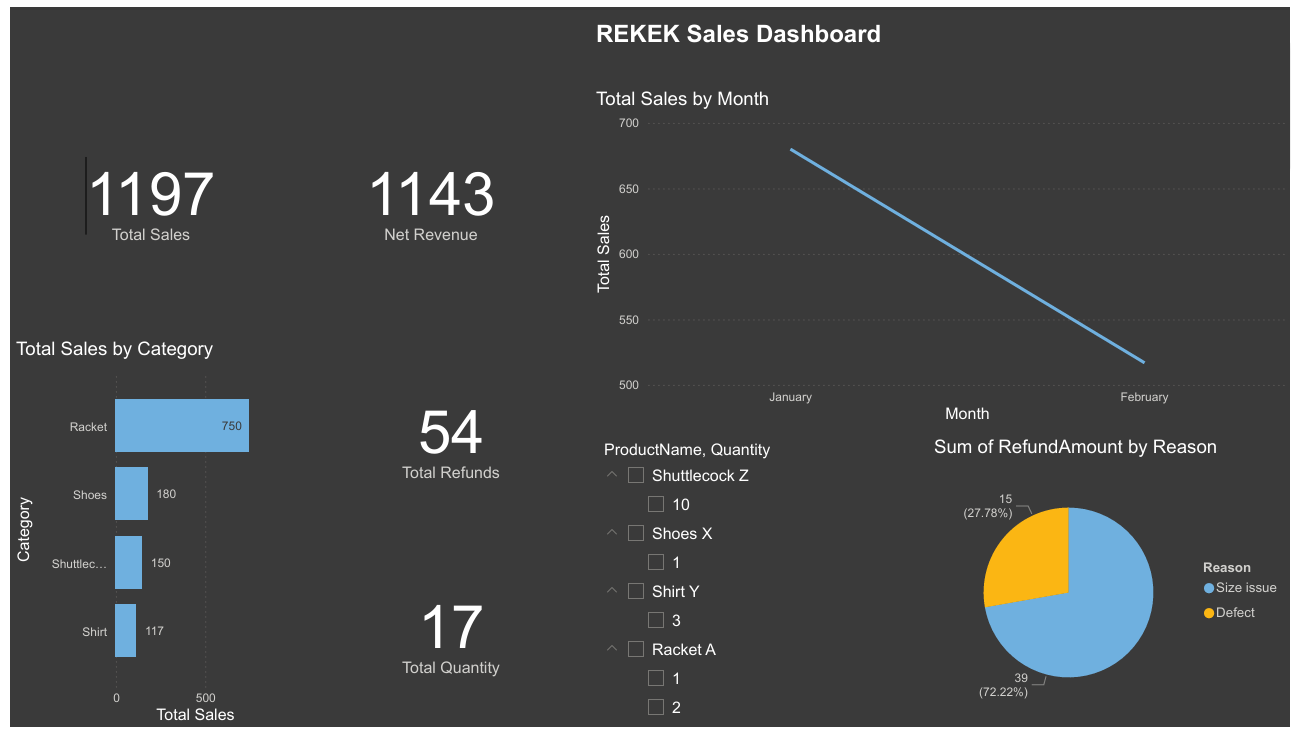

This screenshot's page, from the dashboard's own definition file:
{"tool":"powerbi","page":{"name":"Page 1","canvas":[1280,720],"ordinal":0},"visuals":[{"type":"card","fields":{"Values":["Orders.Total Sales"]},"box":[0,49.6,280.1,280.1],"z":0},{"type":"card","fields":{"Values":["Orders.Net Revenue"]},"box":[280.1,49.6,280.1,280.1],"z":1000},{"type":"card","fields":{"Values":["Orders.Total Quantity"]},"box":[299.6,525.2,280.1,194.5],"z":2000},{"type":"card","fields":{"Values":["Orders.Total Refunds"]},"box":[299.6,329.7,280.1,195.5],"z":3000},{"type":"clusteredBarChart","fields":{"Category":["Product.Category"],"Y":["Orders.Total Sales"]},"box":[0,329.7,280.1,390],"z":4000},{"type":"lineChart","fields":{"Category":["Orders.Date.Variation.Date Hierarchy.Year","Orders.Date.Variation.Date Hierarchy.Quarter","Orders.Date.Variation.Date Hierarchy.Month","Orders.Date.Variation.Date Hierarchy.Day"],"Y":["Orders.Total Sales"]},"box":[579.7,79.8,700.3,339.5],"z":5000},{"type":"pieChart","fields":{"Category":["Returns.Reason"],"Y":["Sum(Returns.RefundAmount)"]},"box":[918.2,428,361.8,291.8],"z":6000},{"type":"slicer","fields":{"Values":["Product.ProductName","Orders.Quantity"]},"box":[579.7,428,338.5,291.8],"z":7000},{"type":"textbox","box":[579.7,6.8,338.5,42.8],"z":8000}]}

Visuals, with their boxes in screenshot pixels (x1, y1, x2, y2), scaled from the page's 1280x720 canvas onto the 1293x732 screenshot:
card - Orders.Total Sales: box=[0, 50, 283, 335]
card - Orders.Net Revenue: box=[283, 50, 566, 335]
card - Orders.Total Quantity: box=[303, 534, 586, 731]
card - Orders.Total Refunds: box=[303, 335, 586, 534]
clusteredBarChart - Product.Category x Orders.Total Sales: box=[0, 335, 283, 731]
lineChart - Orders.Date.Variation.Date Hierarchy.Year x Orders.Date.Variation.Date Hierarchy.Quarter: box=[586, 81, 1292, 426]
pieChart - Returns.Reason x Sum(Returns.RefundAmount): box=[928, 435, 1292, 731]
slicer - Product.ProductName x Orders.Quantity: box=[586, 435, 928, 731]
textbox: box=[586, 7, 928, 50]
